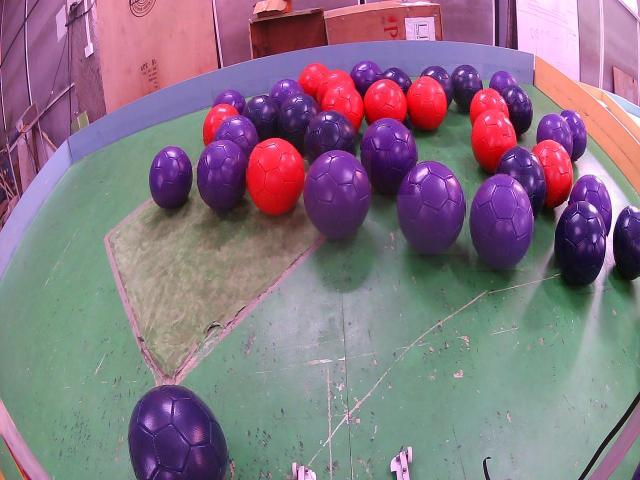jambhalya: (397, 162, 465, 254), (470, 175, 533, 270), (304, 150, 371, 238), (360, 118, 417, 195), (197, 140, 247, 211), (149, 147, 192, 208), (569, 175, 611, 234), (214, 115, 259, 159), (536, 113, 574, 157), (562, 110, 586, 160), (350, 60, 381, 98), (270, 79, 303, 108), (213, 90, 246, 115), (489, 72, 516, 94)
kaalyya: (128, 385, 228, 480), (555, 201, 607, 286), (496, 146, 547, 216), (305, 110, 357, 163), (277, 94, 320, 153), (614, 205, 639, 280), (243, 95, 280, 140), (502, 85, 532, 135), (452, 65, 482, 111), (421, 66, 454, 107), (382, 68, 411, 95)
